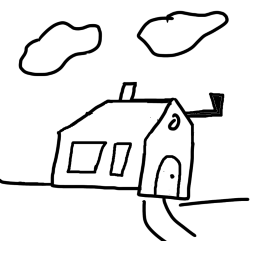chimney: (181, 87, 234, 120), (119, 75, 137, 104)
clouds: (11, 15, 109, 80), (131, 3, 235, 59)
door: (150, 154, 185, 197)
open_window: (58, 135, 114, 177), (106, 140, 133, 178)
single_line_roof: (57, 91, 197, 137)
wall: (48, 132, 151, 203)
